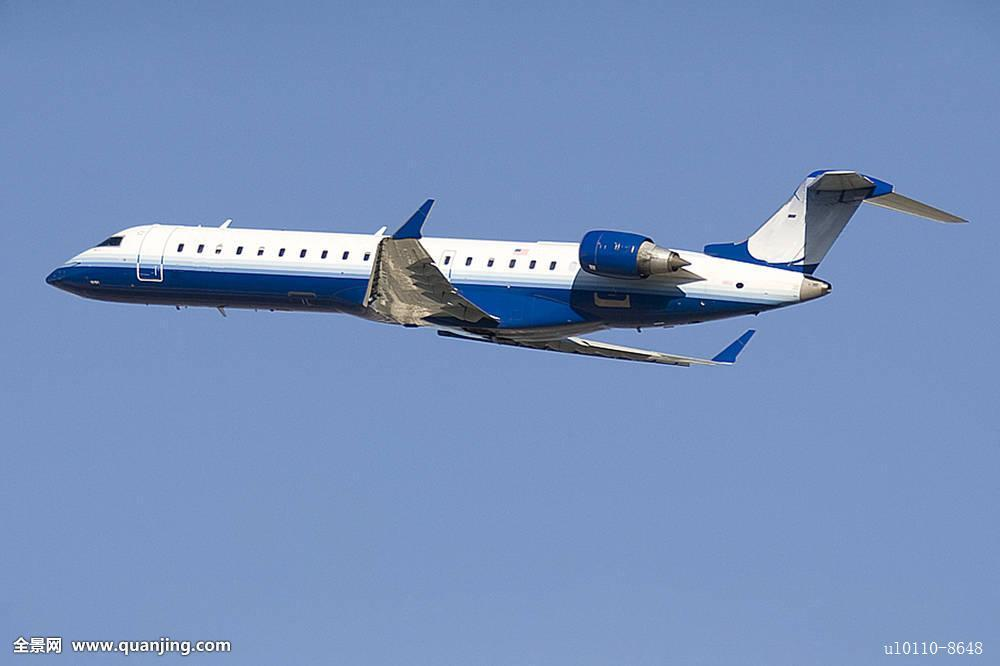airplane: (41, 163, 970, 345)
